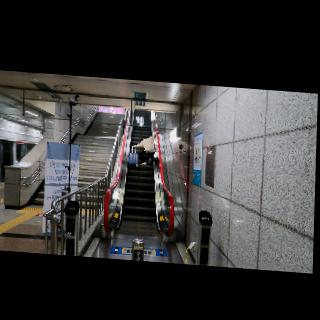anomaly: (128, 129, 159, 169)
